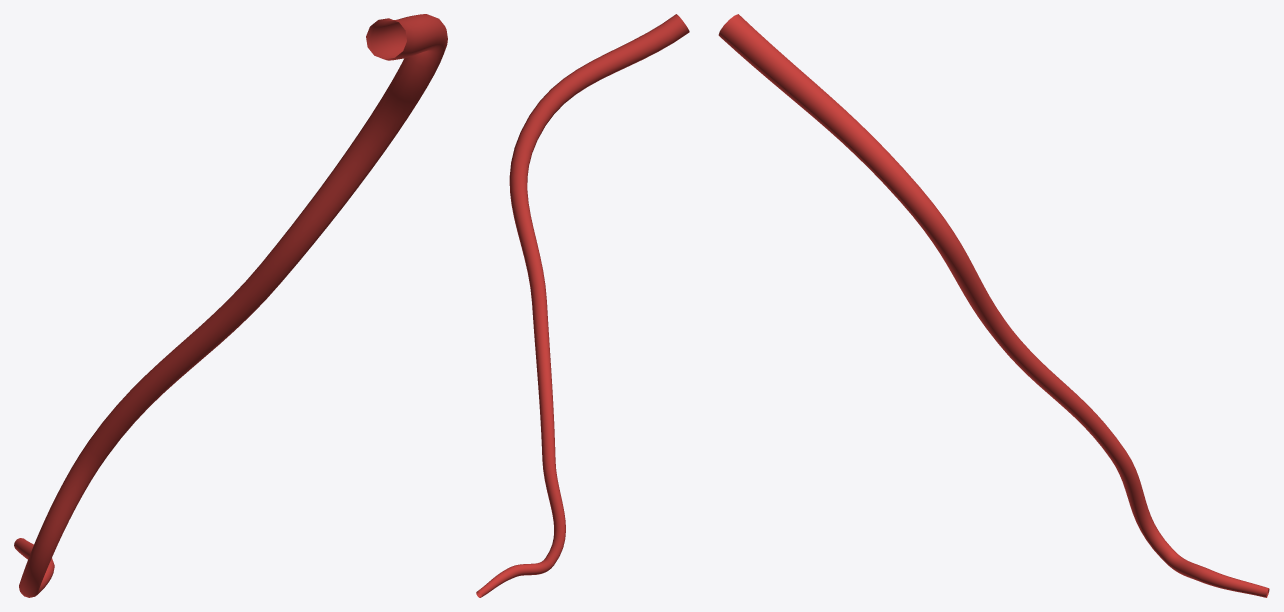
3 renders of one model, left to right at view 1: azimuth 30°, elevation 25°; view 2: azimuth 150°, elevation 25°; view 3: azimuth 270°, elevation 25°, orthographic. The views are drawn at different scales.
Parts seen in each view (by area): view 1: 左侧闭孔动脉; view 2: 左侧闭孔动脉; view 3: 左侧闭孔动脉.
Part boxes in pixels (left/top/right/bottom): 左侧闭孔动脉: left=14, top=14, right=447, bottom=597; 左侧闭孔动脉: left=476, top=14, right=689, bottom=597; 左侧闭孔动脉: left=718, top=14, right=1269, bottom=597.
Bounding box in the file's own units: 0.024 × 0.075 × 0.0643.
